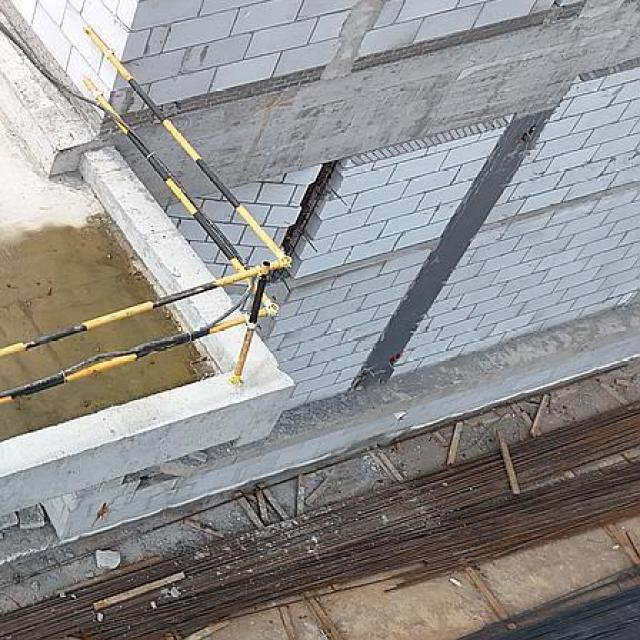Guardrail: (0, 25, 294, 407)
